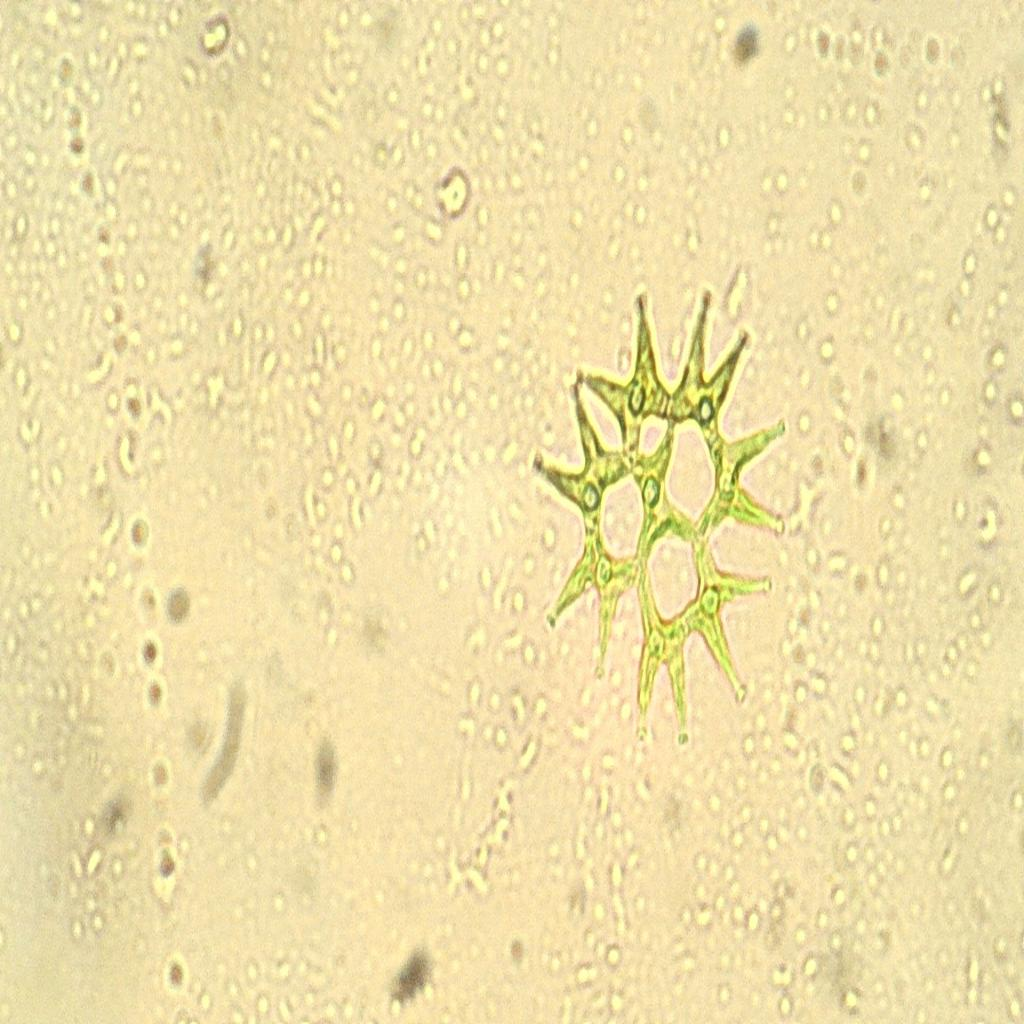Pediastrum_75T: (524, 274, 795, 760)
